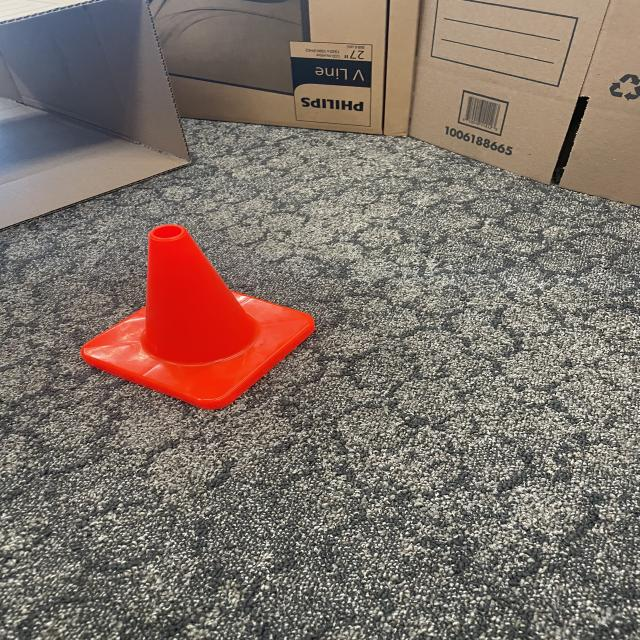Traffic Cone: (72, 212, 324, 420)
